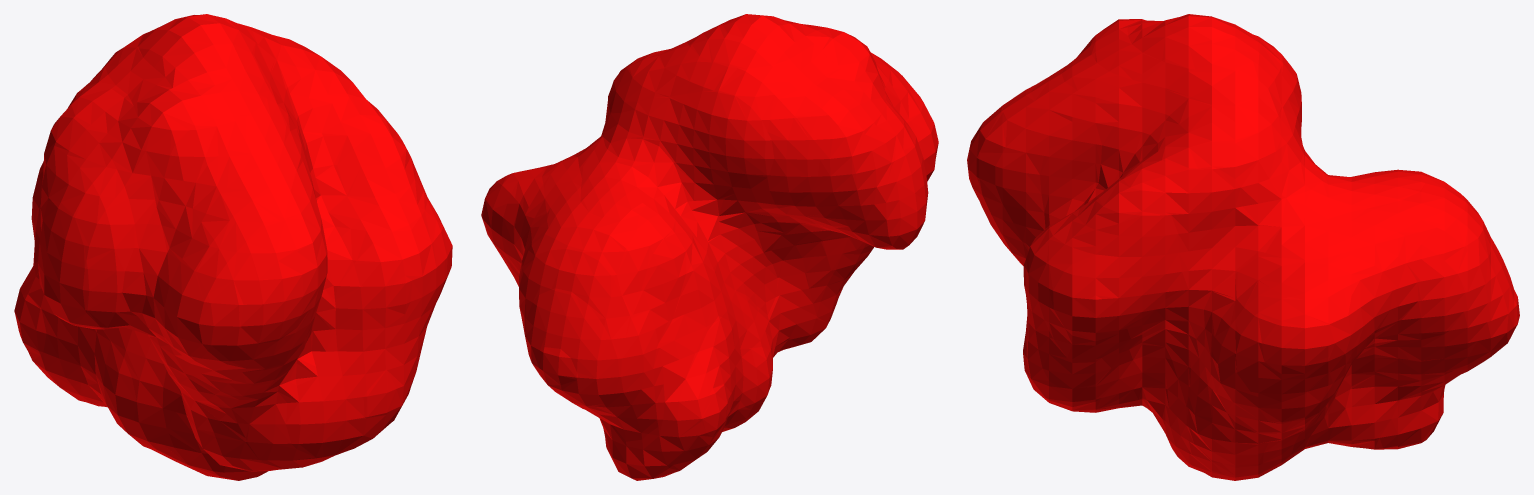
File: yccF_coarse.dae
The picture shows the model from 3 angles, left to right: view 1: azimuth 30°, elevation 25°; view 2: azimuth 150°, elevation 25°; view 3: azimuth 270°, elevation 25°; orthographic projection. The views are drawn at different scales.
Parts seen in each view (by area): view 1: yccF; view 2: yccF; view 3: yccF.
Part boxes in pixels (bbox=[...]): yccF: bbox=[14, 14, 452, 480]; yccF: bbox=[481, 14, 938, 480]; yccF: bbox=[967, 14, 1519, 480].
Size of the model in its own units: 42.2 by 44.39 by 51.8.
